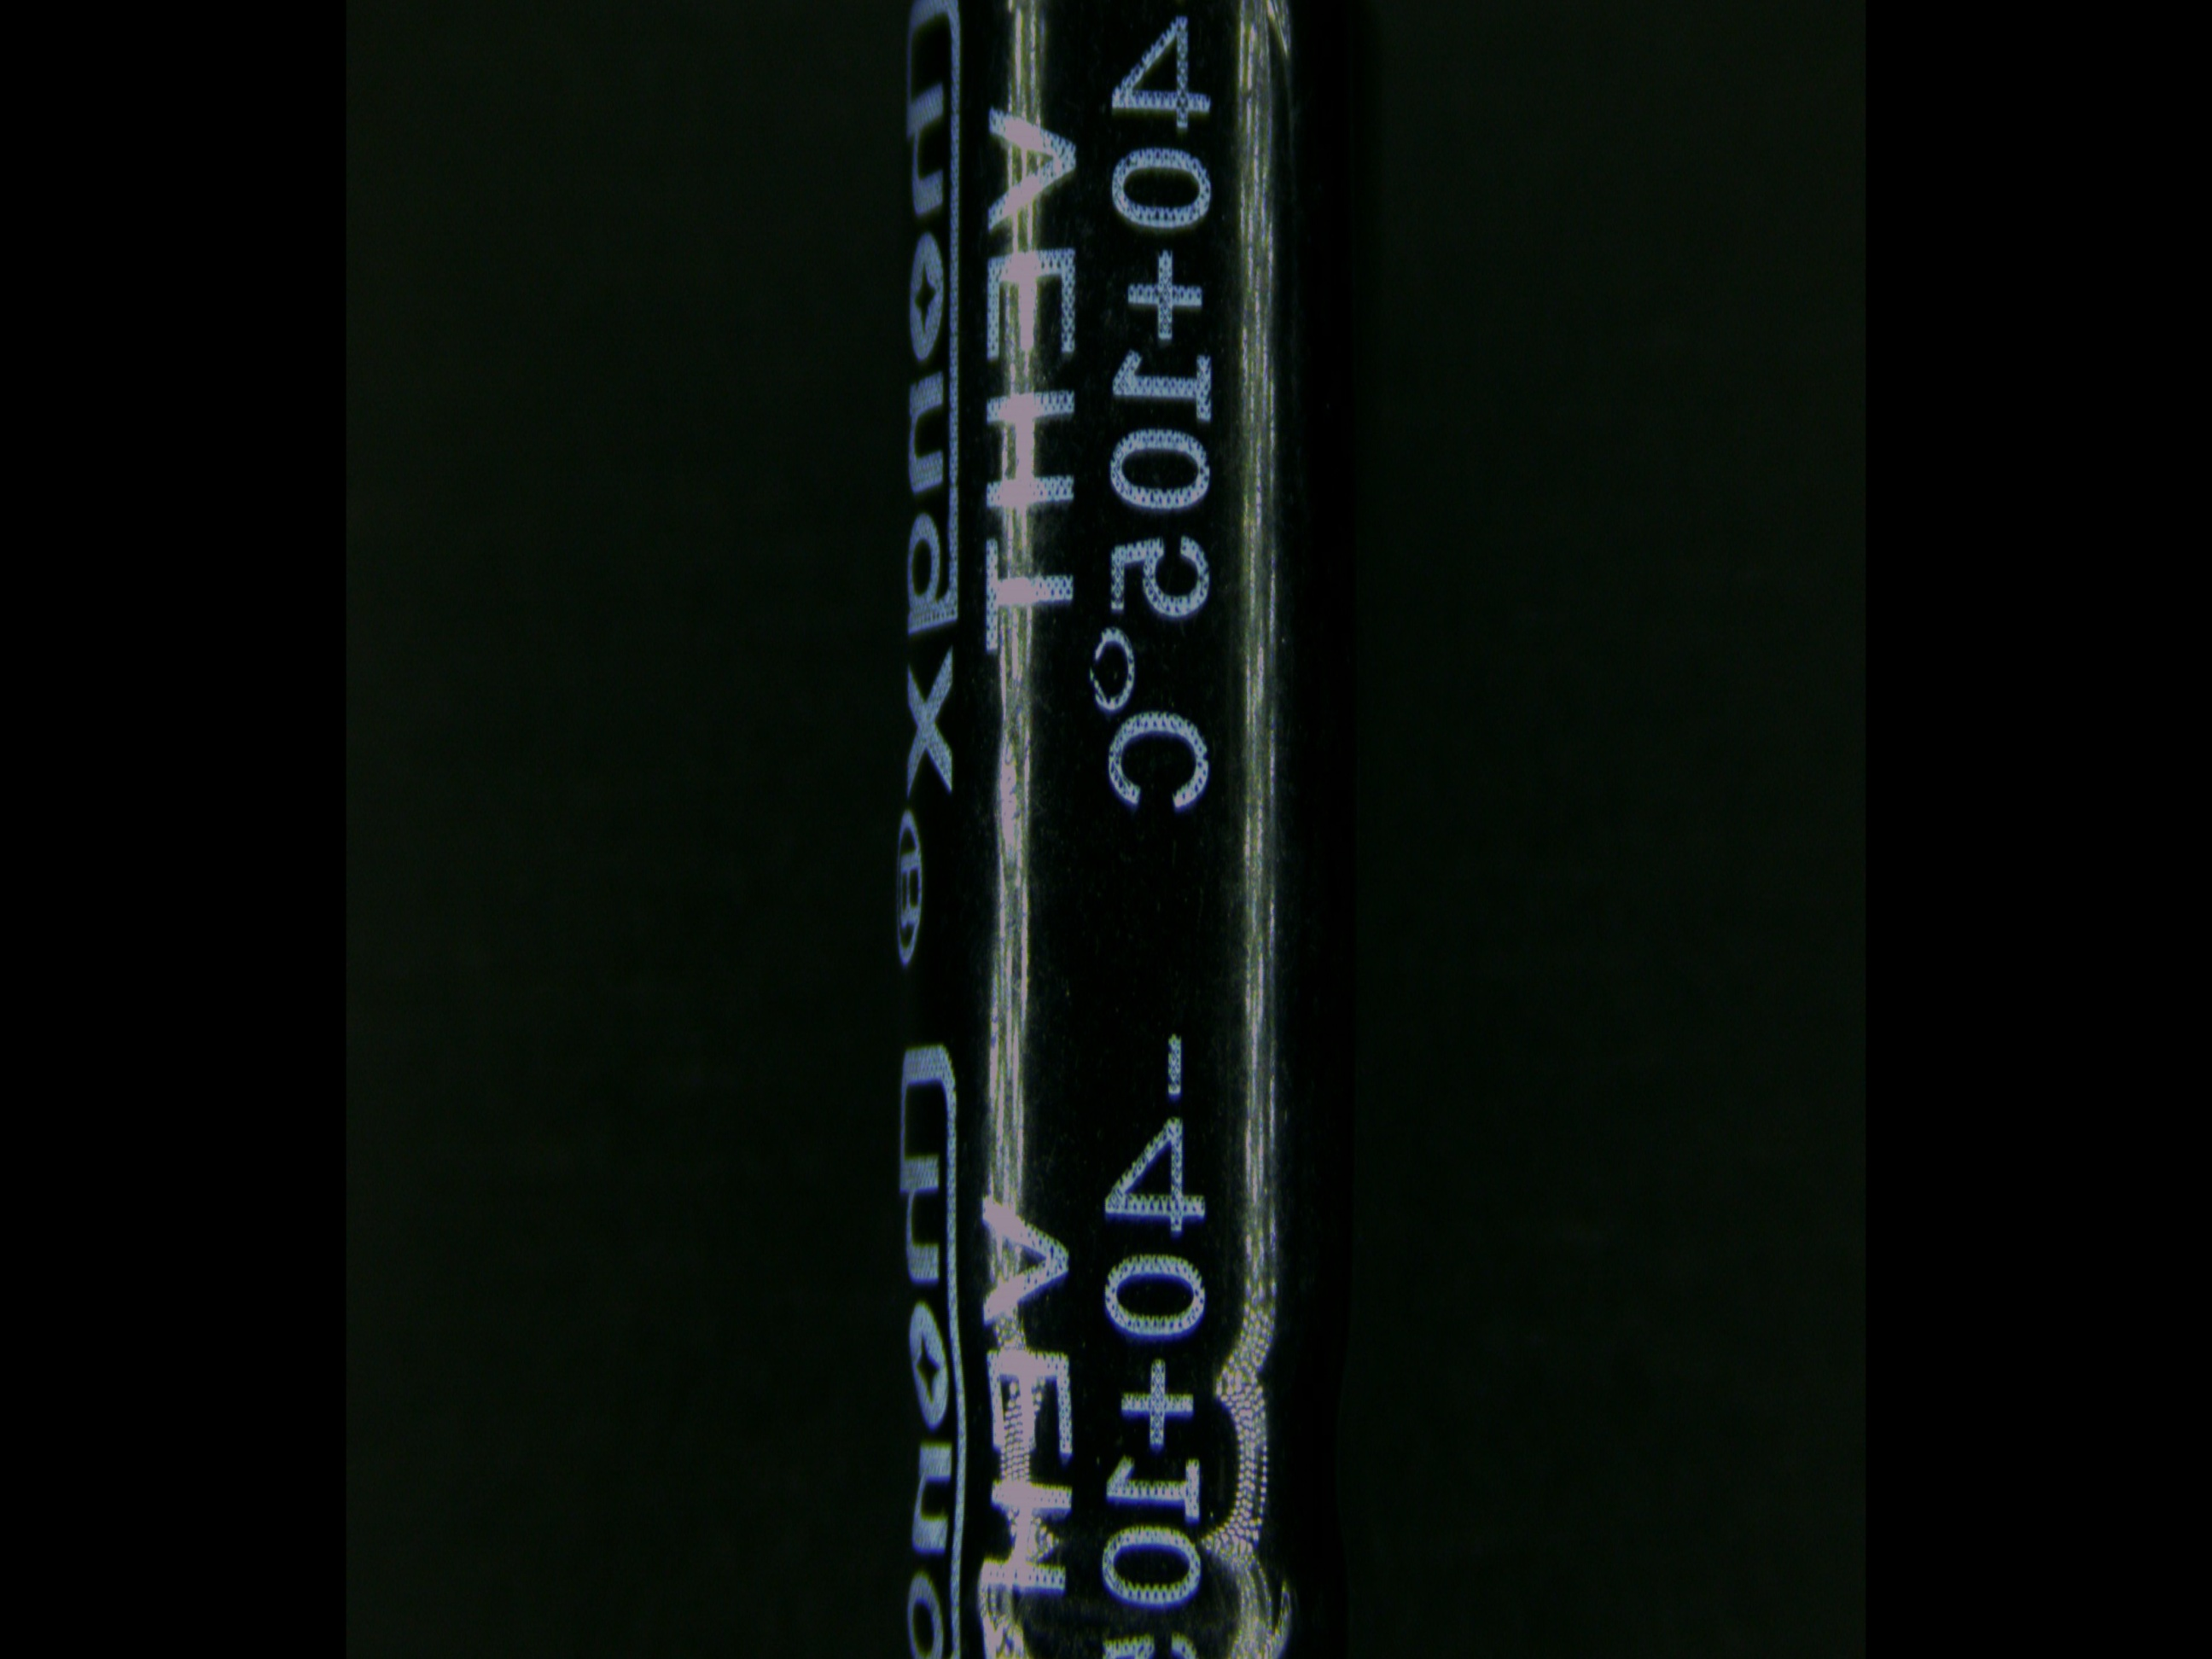c3: (881, 0, 1376, 1659)
